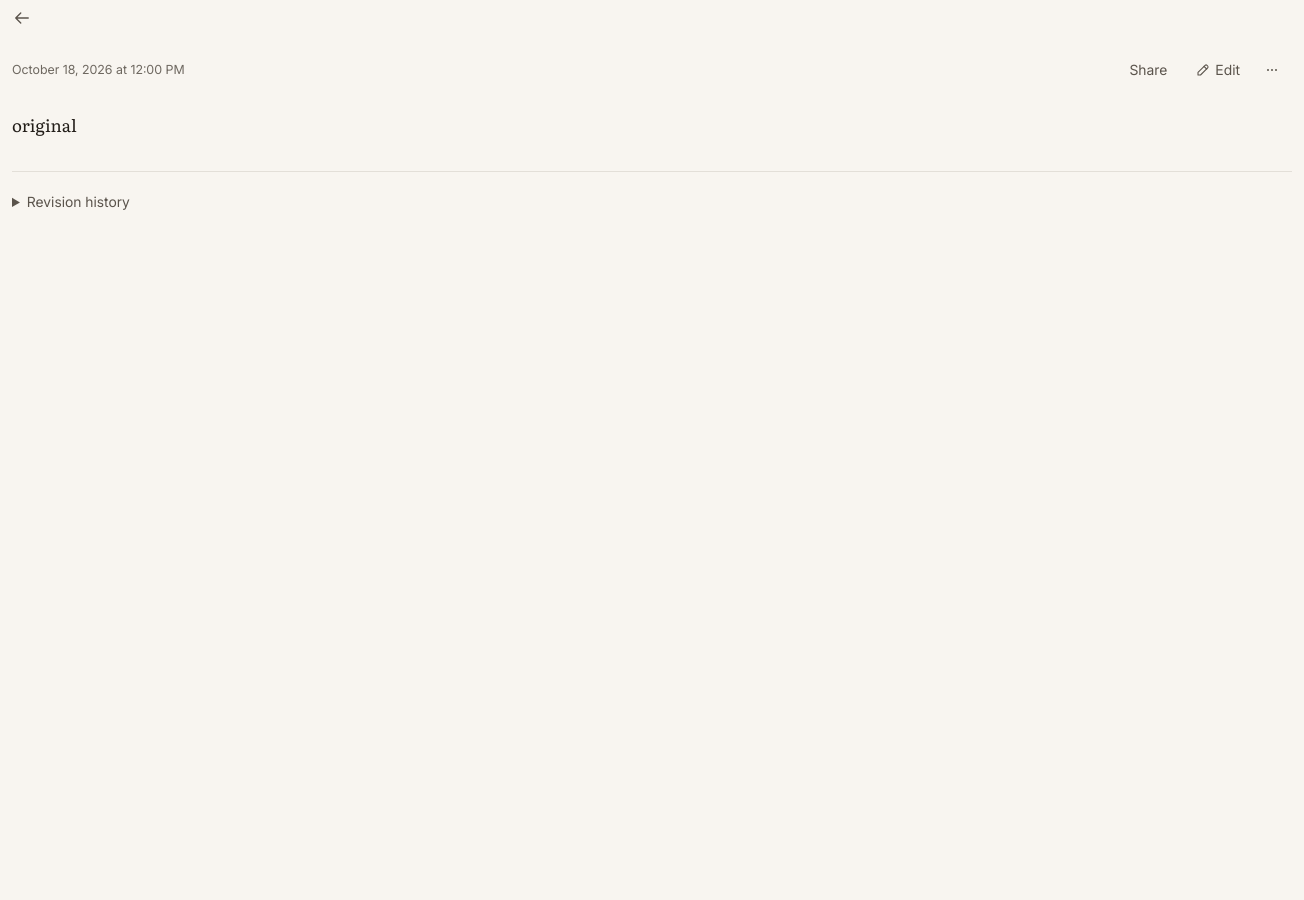
Test: the note page › when the note was edited on two devices (WW-08) › keeps the saved text by dropping mine and its copy
Click the button "Edit" at (1218, 70), box [1183,52,1252,88]
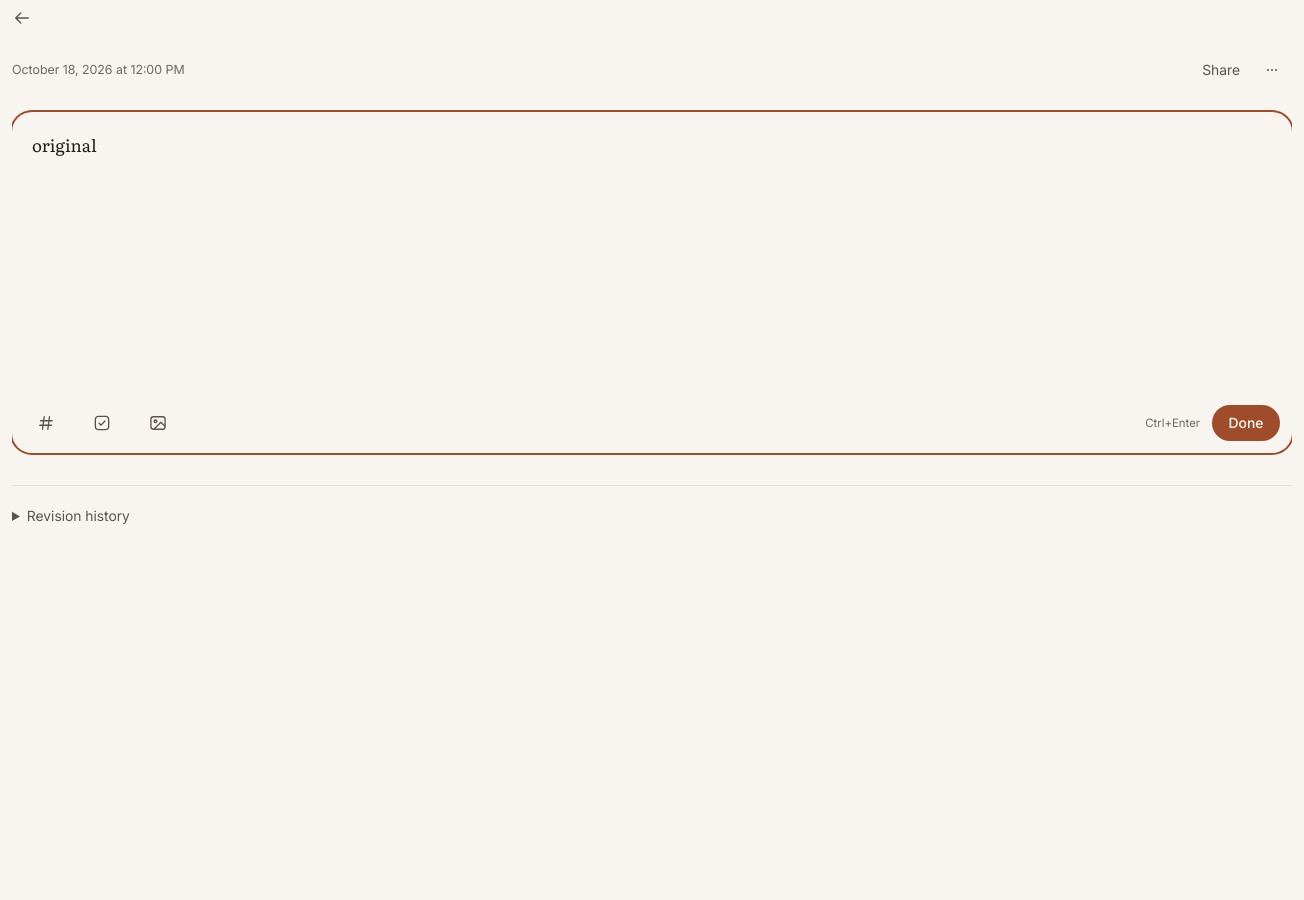
Replace the text in the text box named "Edit note" with "mine" at (652, 252), box [12,112,1292,392]
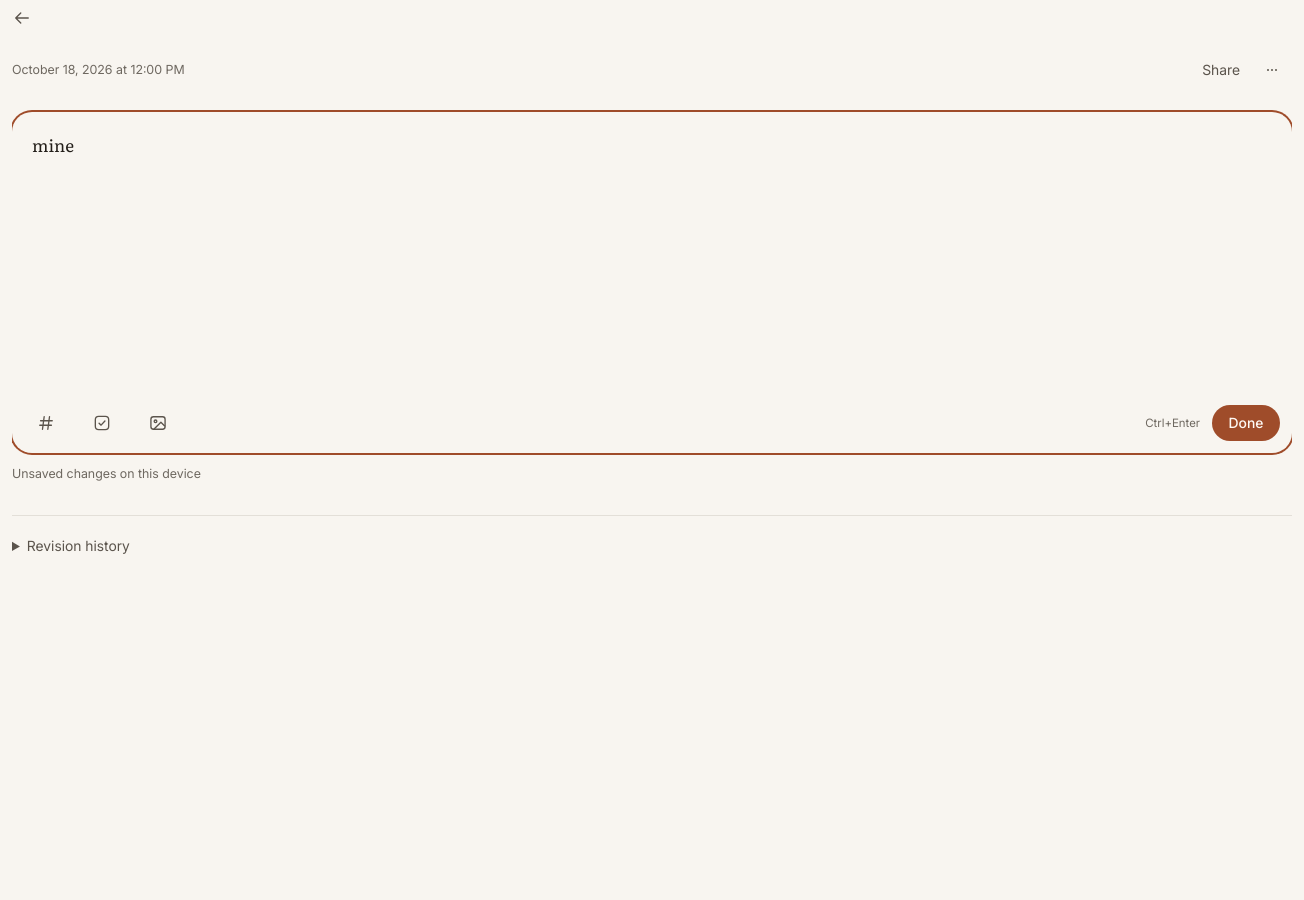
Click the button "Done" at (1246, 423), box [1212,405,1280,441]
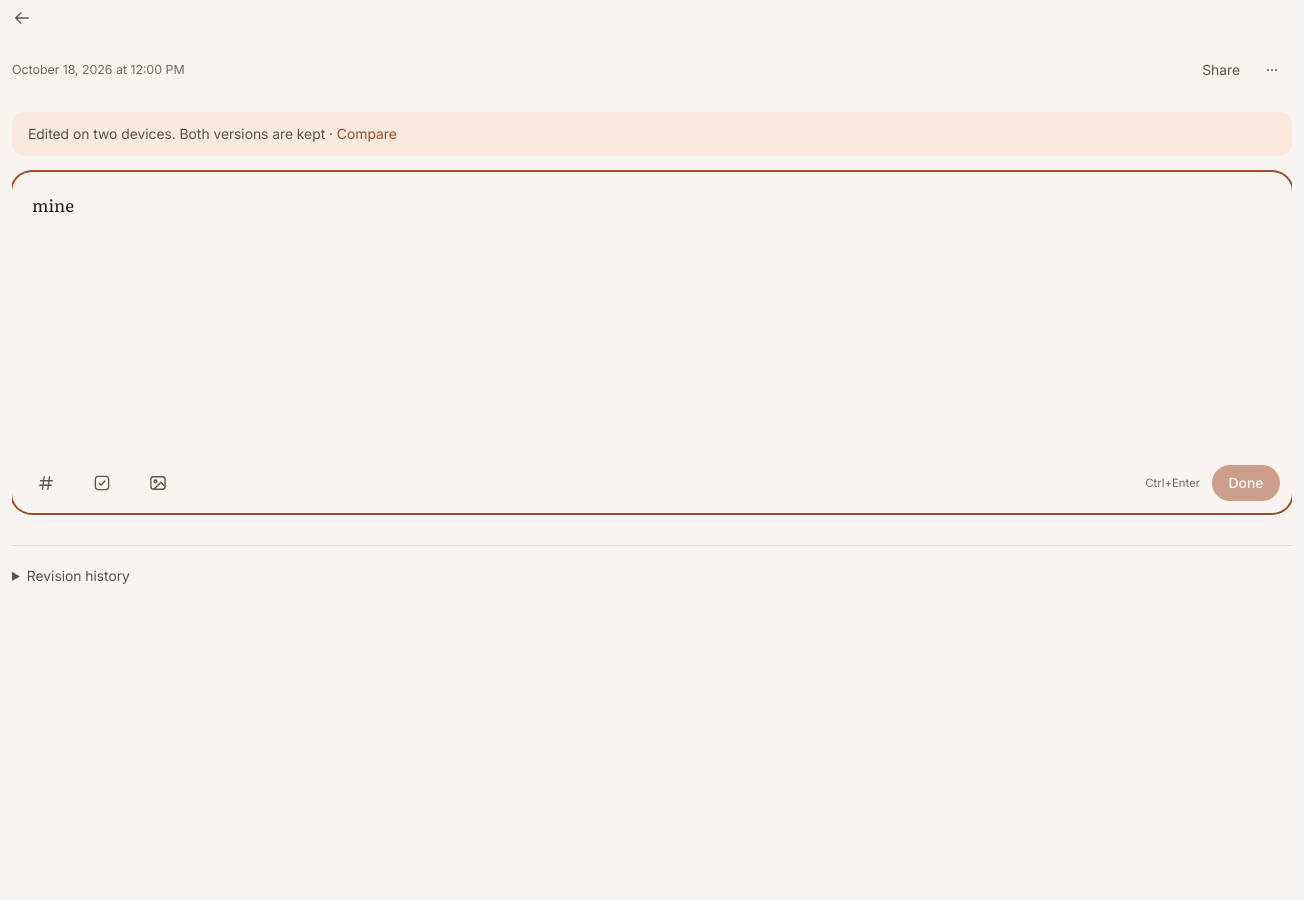
Click the button "Compare" at (367, 134), box [337,124,397,144]
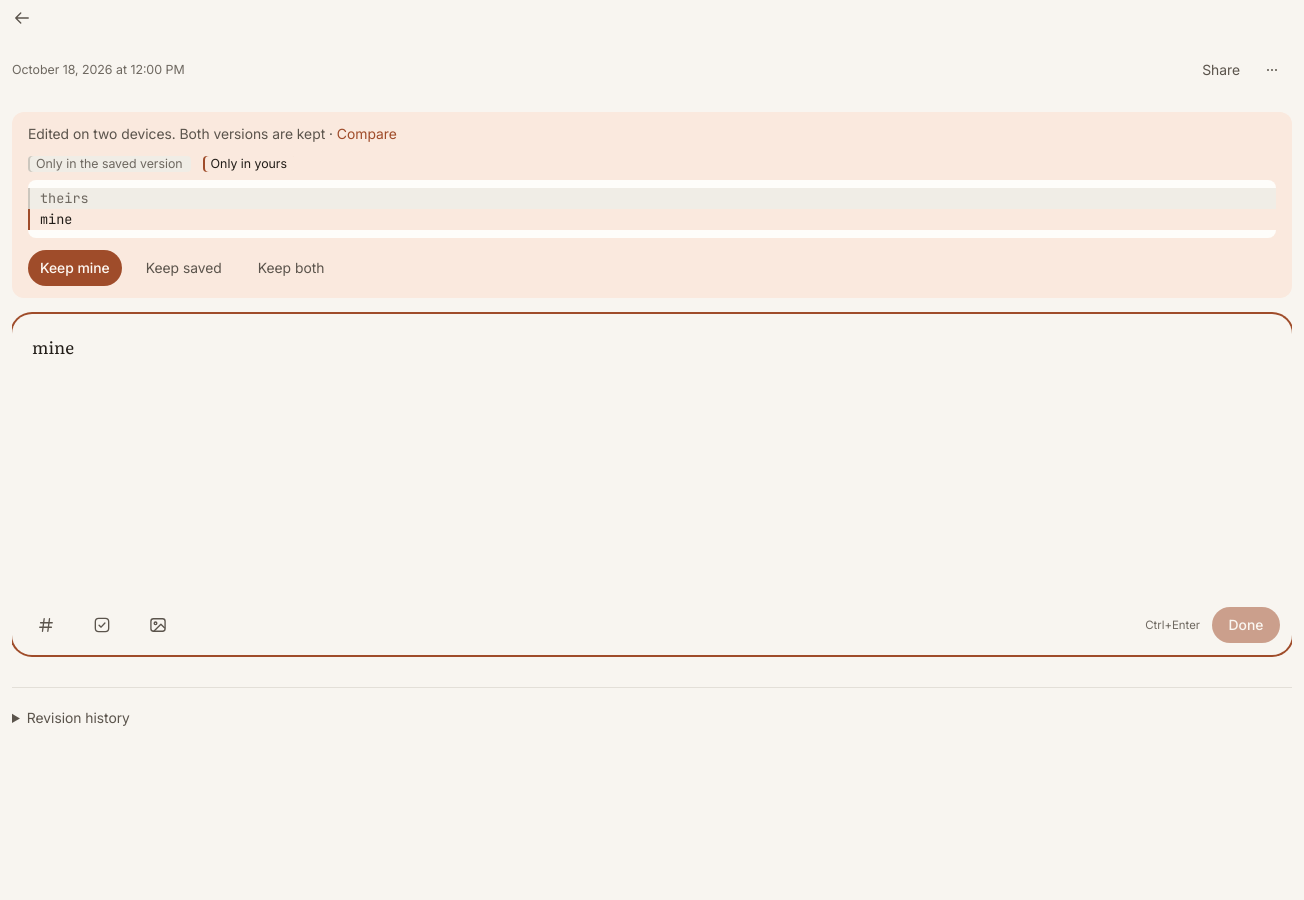
Check: the text "theirs" is shown, box [28,188,1276,209]
Check: the text "mine" below "theirs" is shown, box [40,210,72,228]
Click the button "Keep saved" at (184, 268), box [134,250,234,286]
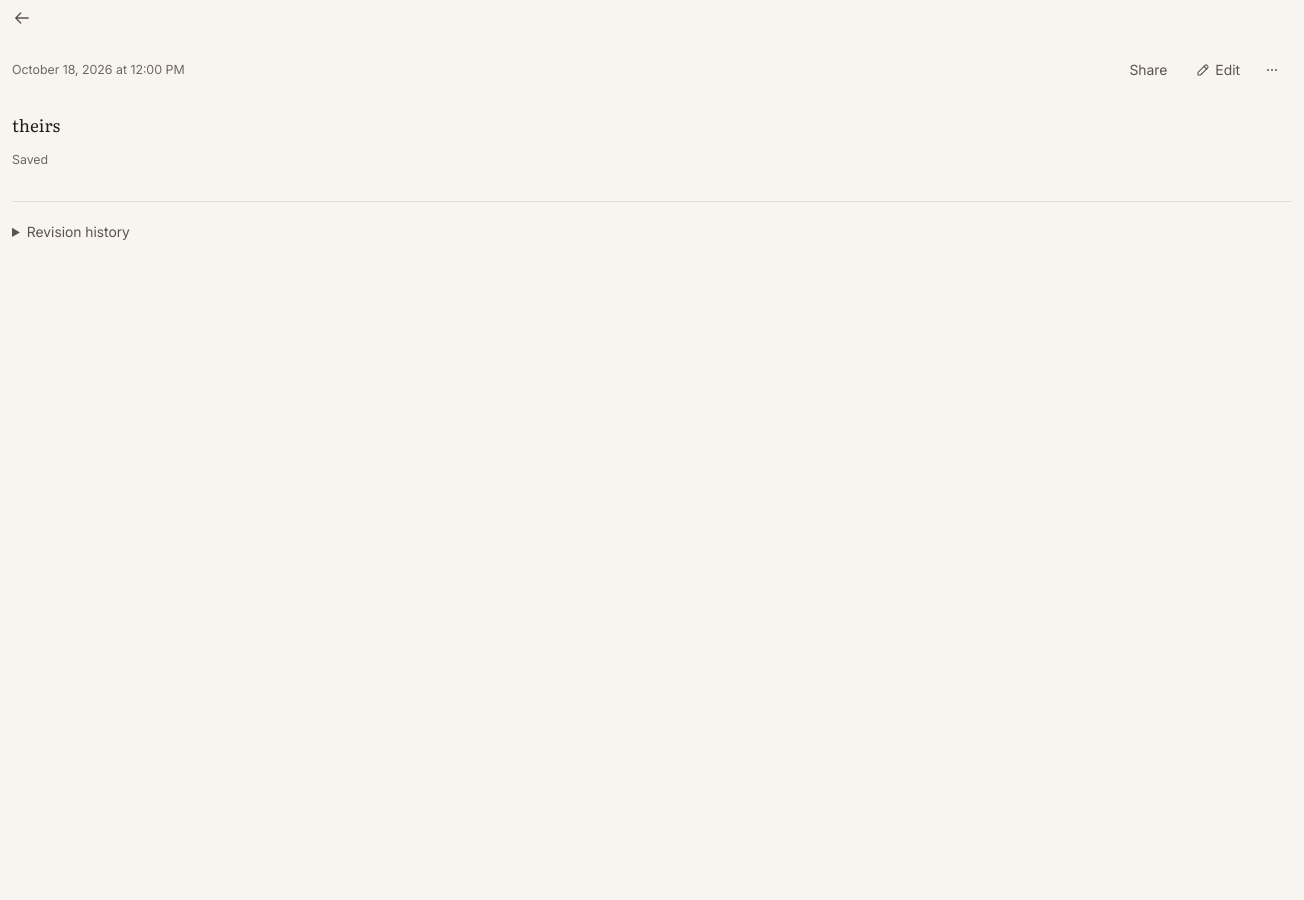
Check: the element "Edited on two devices" is gone
